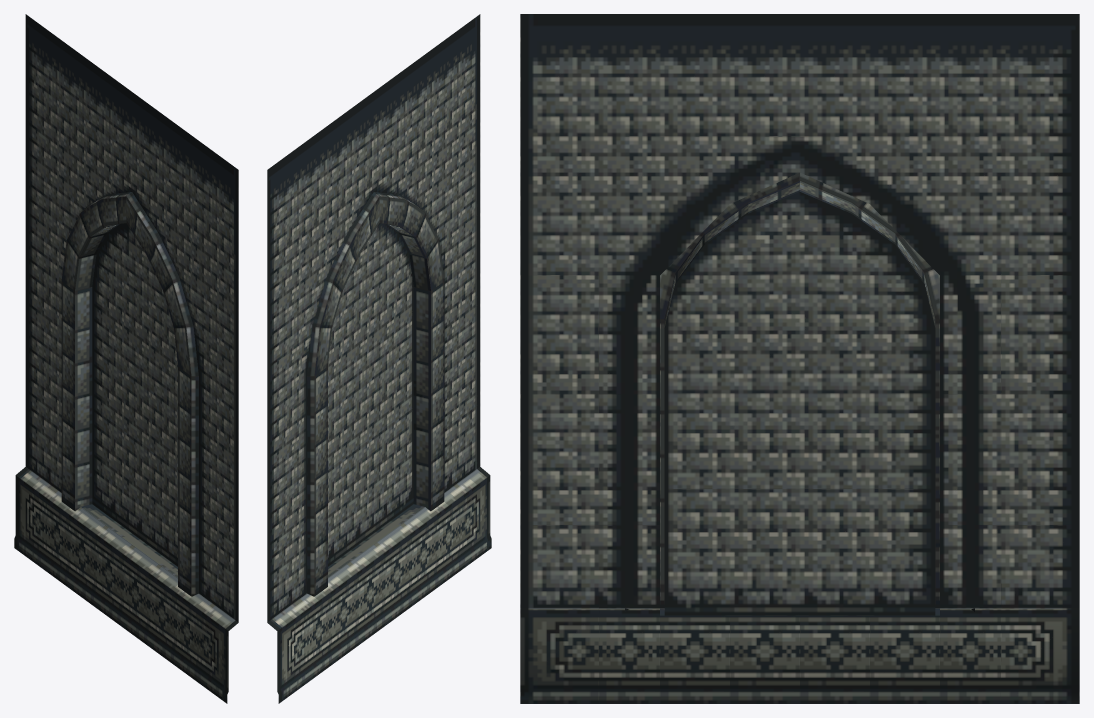
Rendered from ObjMD_Daiseido_Wall_B.FBX.
The picture shows the model from 3 angles, left to right: view 1: azimuth 30°, elevation 25°; view 2: azimuth 150°, elevation 25°; view 3: azimuth 270°, elevation 25°; orthographic projection. The views are drawn at different scales.
Visible parts, largest first — view 1: ObjMD_Daiseido_Wall_B; view 2: ObjMD_Daiseido_Wall_B; view 3: ObjMD_Daiseido_Wall_B.
Boxes of the visible parts, bbox=[...] form: ObjMD_Daiseido_Wall_B: bbox=[14, 14, 238, 703]; ObjMD_Daiseido_Wall_B: bbox=[267, 14, 491, 703]; ObjMD_Daiseido_Wall_B: bbox=[520, 14, 1079, 703].
Size of the model in its own units: 50 by 1100 by 800.
